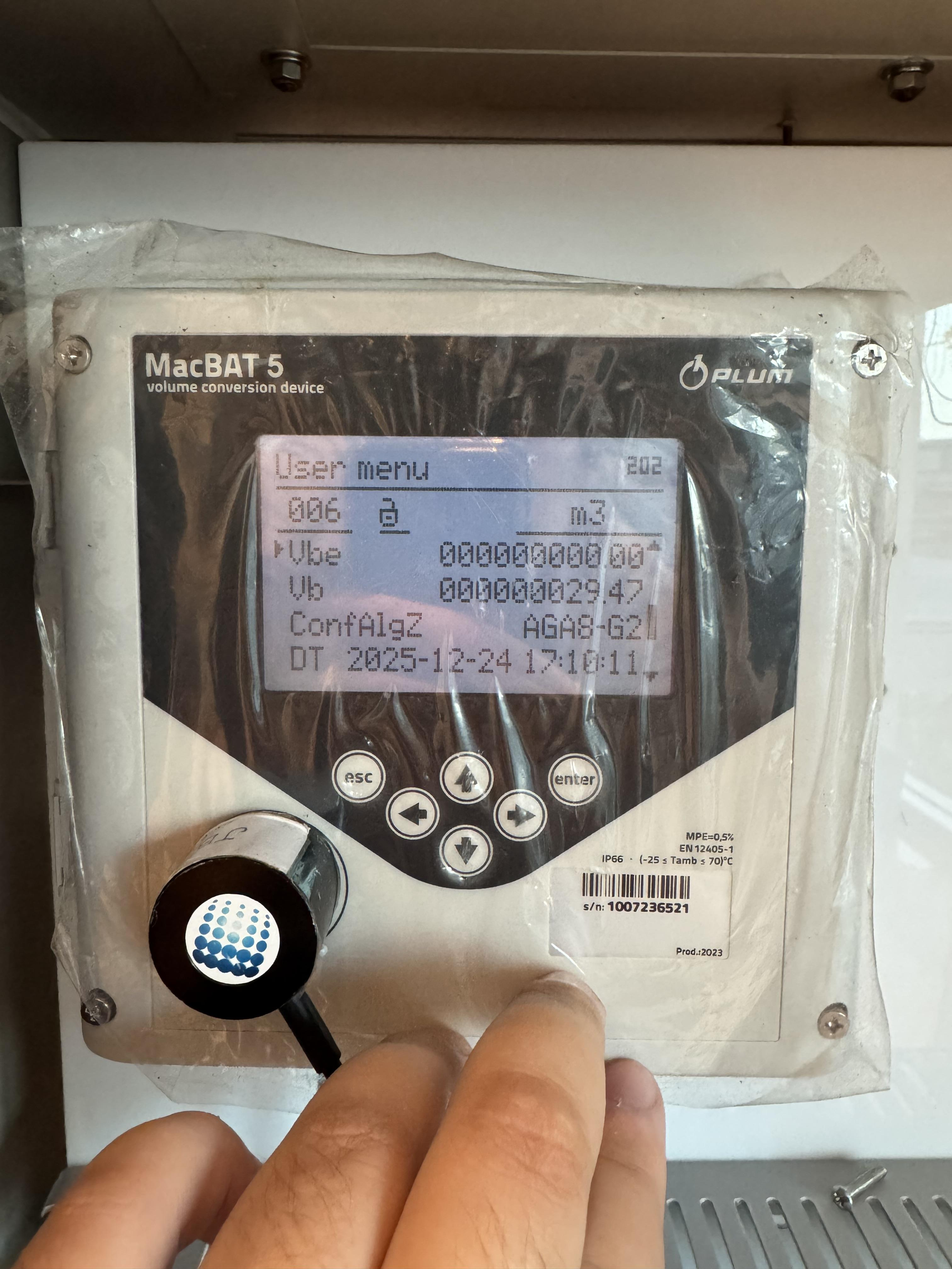digital_screen: (254, 436, 683, 696)
